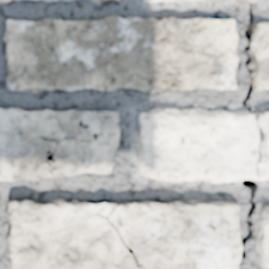brick: (5, 16, 237, 91), (103, 201, 241, 268), (8, 200, 136, 268), (0, 109, 119, 180), (250, 23, 268, 89), (257, 206, 268, 267), (36, 0, 53, 2), (0, 0, 10, 2), (92, 0, 101, 2)
broken_brick: (136, 107, 258, 183), (257, 111, 268, 181), (144, 0, 268, 4)
crack: (238, 2, 266, 266), (85, 204, 143, 268)
